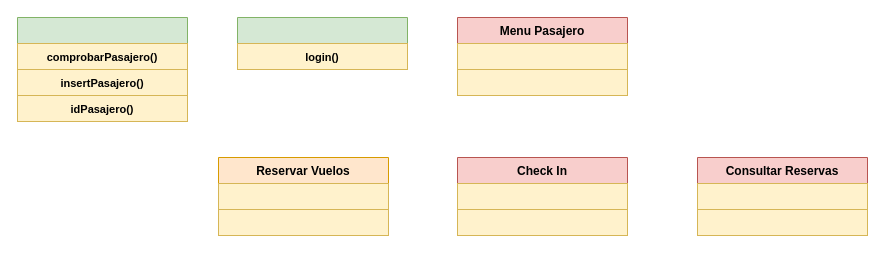
Some shapes in this 885 by 253 pixel diagram are drawn without their labels. The box of each missing label's shape, as (x1, y1, x2, y2) in pixels:
Login Pasajero: (236, 16, 408, 70)
Registro Pasajero: (16, 16, 188, 122)
